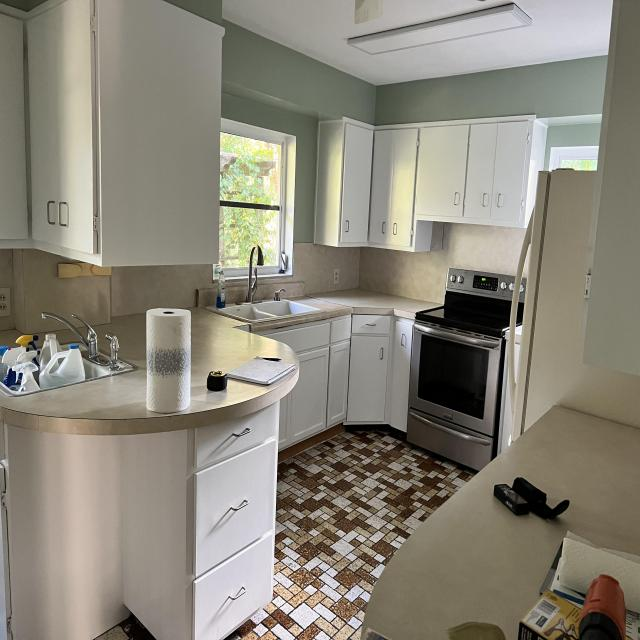Appliance_Fridge: (499, 169, 601, 453)
Appliance_Oven: (406, 268, 526, 475)
Appliance_Sink: (0, 312, 135, 397), (219, 245, 316, 320)
Cabinet_Flat: (337, 119, 547, 252), (0, 0, 100, 266), (193, 402, 280, 640), (263, 315, 413, 434)
Cabinet_Shaker: (280, 342, 350, 452)
Countertop_Laminate: (363, 407, 640, 640), (0, 298, 438, 436)
